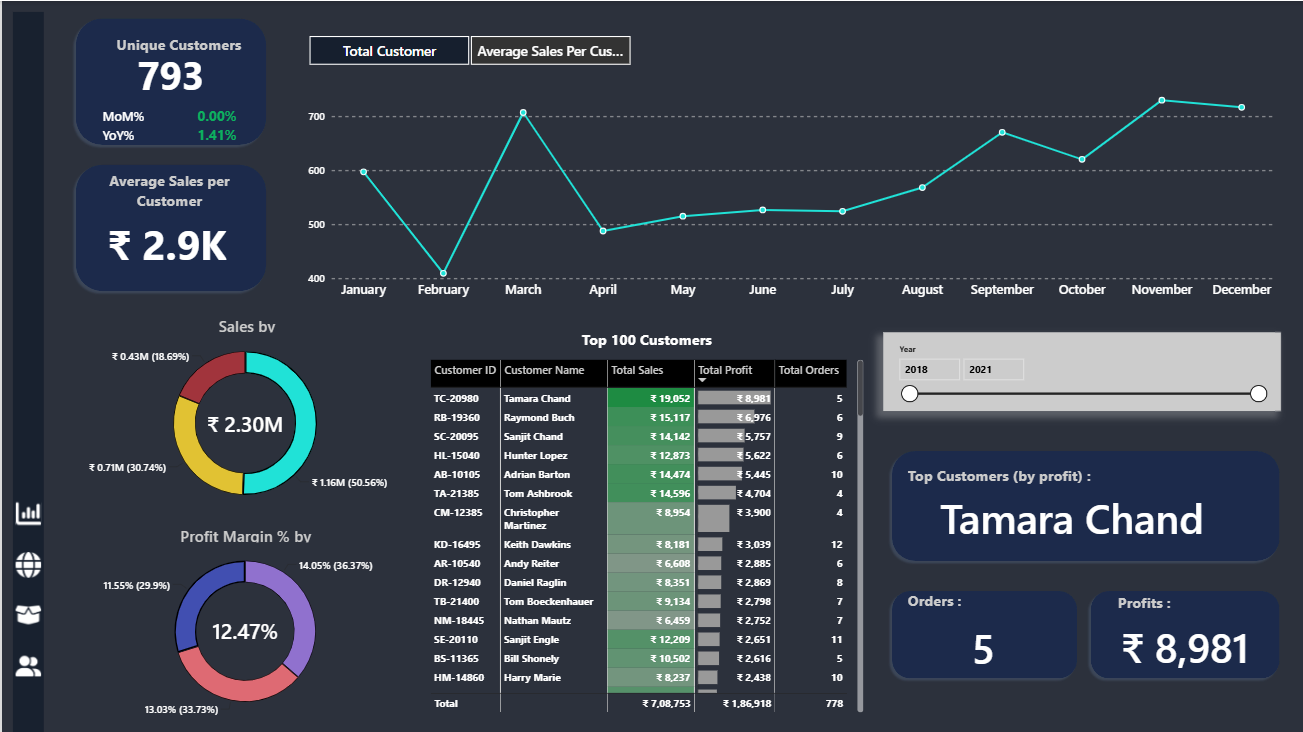

What the dashboard file says about the page in this screenshot:
{"tool":"powerbi","page":{"name":"Customers Details","canvas":[1920,1080],"ordinal":3},"visuals":[{"type":"shape","box":[0,0,77.8,1080.4],"z":0},{"type":"actionButton","box":[0,712,77.9,64.9],"z":1000},{"type":"actionButton","box":[0,862.1,77.9,64.9],"z":2000},{"type":"actionButton","box":[0,787,77.9,64.9],"z":3000},{"type":"actionButton","box":[0,937.1,77.9,64.9],"z":4000},{"type":"shape","box":[101.1,233.8,295,200.9],"z":5000},{"type":"shape","box":[101.2,18.4,295,200.9],"z":6000},{"type":"cardVisual","fields":{"Data":["Measure.Total Customer"]},"box":[116,57.1,265,152.8],"z":7000},{"type":"textbox","title":"Unique Customers","box":[152.8,33.1,228.2,47.9],"z":8000},{"type":"cardVisual","fields":{"Data":["Measure.Average Sales Per Customer"]},"box":[123.3,281.6,250.3,134.4],"z":9000},{"type":"textbox","title":"Average Sales per Customer","box":[132.5,233.7,228.2,79.1],"z":10000},{"type":"lineChart","fields":{"Category":["Calendar.Date.Variation.Date Hierarchy.Year","Calendar.Date.Variation.Date Hierarchy.Quarter","Calendar.Date.Variation.Date Hierarchy.Month","Calendar.Date.Variation.Date Hierarchy.Day"],"Y":["Measure.Average Sales Per Customer"]},"box":[434.4,104.9,1454,353.4],"z":11000},{"type":"slicer","fields":{"Values":["Customer metric selection.Customer metric selection"]},"box":[416,33.1,544.8,62.6],"z":12000},{"type":"donutChart","fields":{"Category":["Orders.Segment"],"Y":["Measure.Total Sales"]},"box":[101.2,467.5,513.5,309.2],"z":13000},{"type":"donutChart","fields":{"Category":["Orders.Segment"],"Y":["Measure.Profit Margin"]},"box":[101.2,776.7,513.5,303.7],"z":14000},{"type":"textbox","title":"Sales by Segment","box":[259.5,447.2,202.5,40.5],"z":15000},{"type":"textbox","title":"Profit Margin % by Segment","box":[204.3,756.4,309.2,40.5],"z":16000},{"type":"tableEx","title":"Top 100 Customers","fields":{"Values":["Orders.Customer ID","Orders.Customer Name","Measure.Total Sales","Measure.Total Profit","Measure.Total Orders"]},"box":[614.7,467.5,669.9,596.3],"z":17000},{"type":"shape","box":[1303.1,655.2,585.3,176.7],"z":18000},{"type":"card","fields":{"Values":["Min(Orders.Customer Name)"]},"box":[1303.1,712.3,544.8,93.9],"z":19000},{"type":"shape","box":[1595.7,860.5,292.6,143.6],"z":20000},{"type":"shape","box":[1303.1,860.5,287.1,143.6],"z":21000},{"type":"card","fields":{"Values":["Measure.Total Profit"]},"box":[1595.7,900.5,292.3,98.1],"z":22000},{"type":"card","fields":{"Values":["Measure.Total Orders"]},"box":[1327,901,235.6,97.5],"z":23000},{"type":"textbox","title":"Orders :","box":[1317.8,852.2,191.4,47.9],"z":24000},{"type":"textbox","title":"Top Customers (by profit) :","box":[1317.8,668.1,309.2,57.1],"z":25000},{"type":"textbox","title":"Profits :","box":[1627,854,191.4,47.9],"z":26000},{"type":"slicer","fields":{"Values":["Calendar.Year"]},"box":[1297.6,487.7,585.3,116],"z":27000}]}

Visuals, with their boxes in screenshot pixels (x1, y1, x2, y2), scaled from the page's 1920x1080 canvas onto the 1303x732 screenshot:
shape: l=0, t=0, r=53, b=731
actionButton: l=0, t=483, r=53, b=527
actionButton: l=0, t=584, r=53, b=628
actionButton: l=0, t=533, r=53, b=577
actionButton: l=0, t=635, r=53, b=679
shape: l=69, t=158, r=269, b=295
shape: l=69, t=12, r=269, b=149
cardVisual - Measure.Total Customer: l=79, t=39, r=259, b=142
"Unique Customers" textbox: l=104, t=22, r=259, b=55
cardVisual - Measure.Average Sales Per Customer: l=84, t=191, r=254, b=282
"Average Sales per Customer" textbox: l=90, t=158, r=245, b=212
lineChart - Calendar.Date.Variation.Date Hierarchy.Year x Calendar.Date.Variation.Date Hierarchy.Quarter: l=295, t=71, r=1282, b=311
slicer - Customer metric selection.Customer metric selection: l=282, t=22, r=652, b=65
donutChart - Orders.Segment x Measure.Total Sales: l=69, t=317, r=417, b=526
donutChart - Orders.Segment x Measure.Profit Margin: l=69, t=526, r=417, b=731
"Sales by Segment" textbox: l=176, t=303, r=314, b=331
"Profit Margin % by Segment" textbox: l=139, t=513, r=348, b=540
"Top 100 Customers" tableEx: l=417, t=317, r=872, b=721
shape: l=884, t=444, r=1282, b=564
card - Min(Orders.Customer Name): l=884, t=483, r=1254, b=546
shape: l=1083, t=583, r=1281, b=681
shape: l=884, t=583, r=1079, b=681
card - Measure.Total Profit: l=1083, t=610, r=1281, b=677
card - Measure.Total Orders: l=901, t=611, r=1060, b=677
"Orders :" textbox: l=894, t=578, r=1024, b=610
"Top Customers (by profit) :" textbox: l=894, t=453, r=1104, b=492
"Profits :" textbox: l=1104, t=579, r=1234, b=611
slicer - Calendar.Year: l=881, t=331, r=1278, b=409
